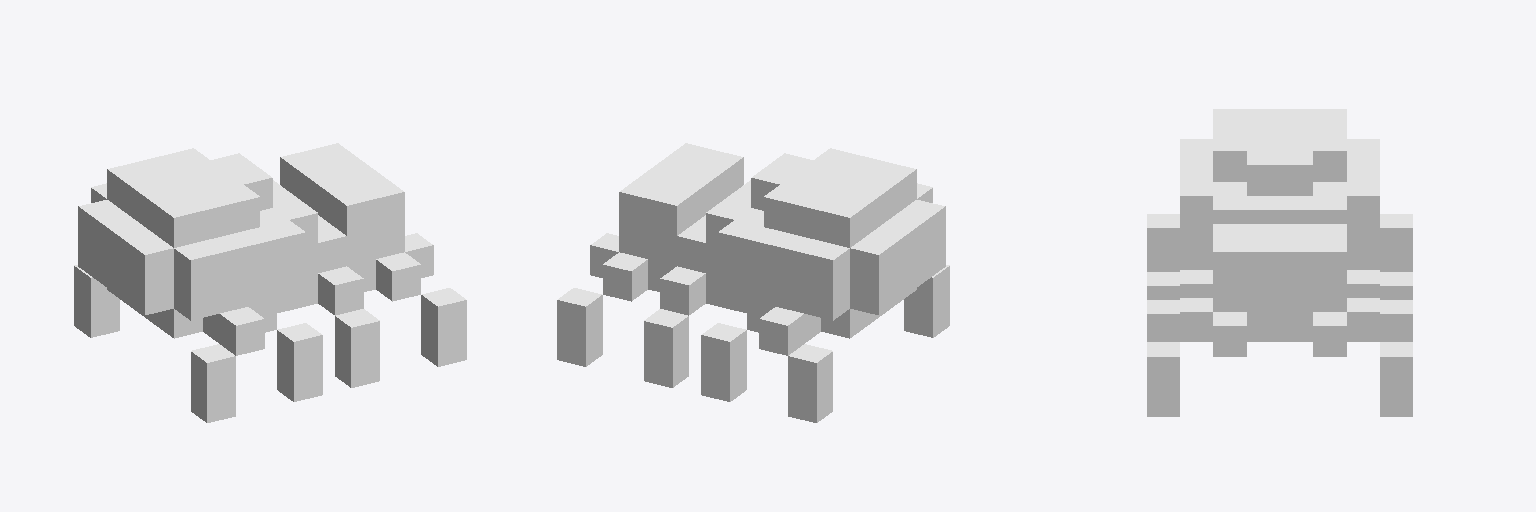
Rendered from pajonk.obj.
3 renders of one model, left to right at view 1: azimuth 30°, elevation 25°; view 2: azimuth 150°, elevation 25°; view 3: azimuth 270°, elevation 25°, orthographic.
Parts seen in each view (by area): view 1: object 1; view 2: object 1; view 3: object 1.
Part boxes in pixels (left/top/right/bottom): object 1: left=74, top=143, right=466, bottom=422; object 1: left=557, top=143, right=949, bottom=422; object 1: left=1147, top=109, right=1412, bottom=416.
Bounding box in the file's own units: 1 × 0.6 × 0.8.